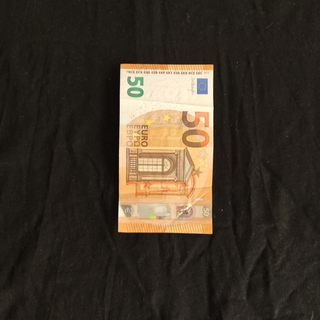50EUROFront: (117, 62, 214, 235)
